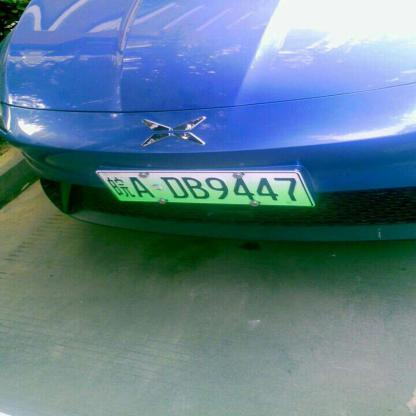lp: (98, 172, 313, 206)
